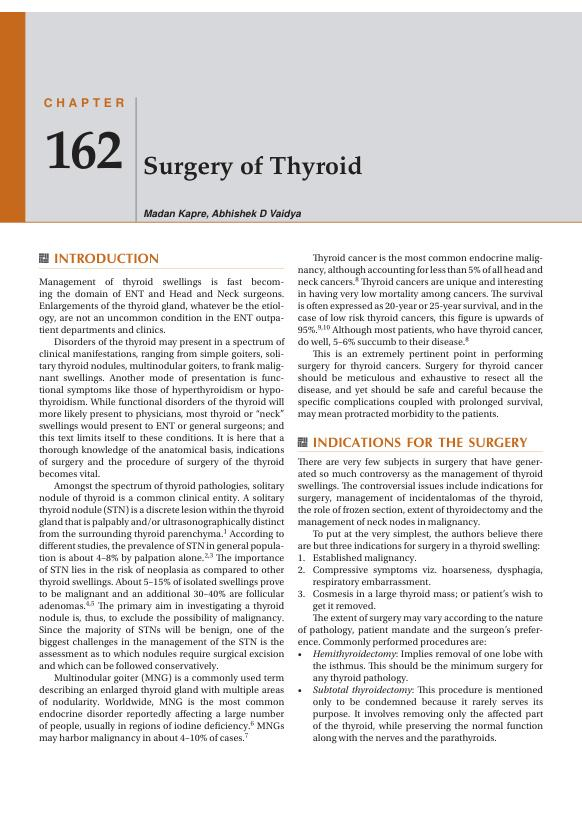chapter-heading: (142, 154, 364, 183)
list: (296, 648, 544, 745), (297, 553, 544, 612)
section-heading: (312, 435, 529, 448), (54, 252, 160, 265)
text: (38, 276, 285, 745), (296, 252, 544, 421), (296, 455, 545, 552), (297, 613, 546, 648)
